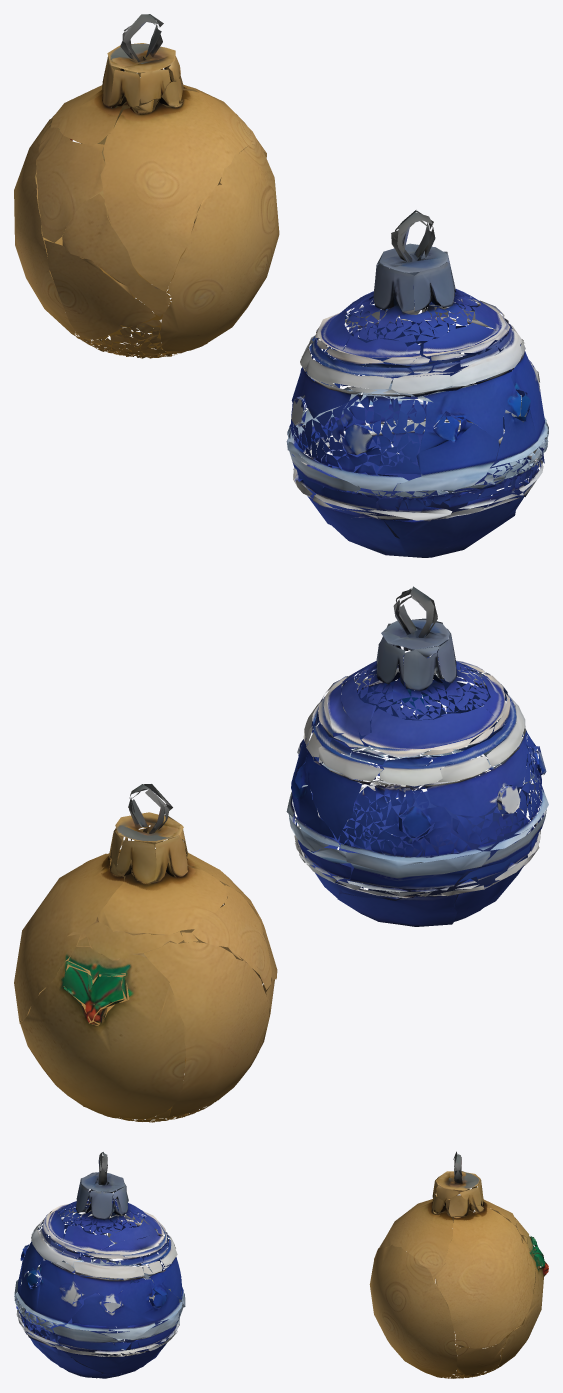
File: Ornament_B.fbx
3 renders of one model, top to bottom at view 1: azimuth 30°, elevation 25°; view 2: azimuth 150°, elevation 25°; view 3: azimuth 270°, elevation 25°, orthographic. The views are drawn at different scales.
Parts seen in each view (by area): view 1: Ornament_B; view 2: Ornament_B; view 3: Ornament_B.
Boxes of the visible parts, <box> form: Ornament_B: <box>14,14,548,557</box>; Ornament_B: <box>14,586,548,1122</box>; Ornament_B: <box>14,1151,548,1378</box>.
Bounding box in the file's own units: 12.07 × 16.16 × 36.93.
1 material, 1 textured.
